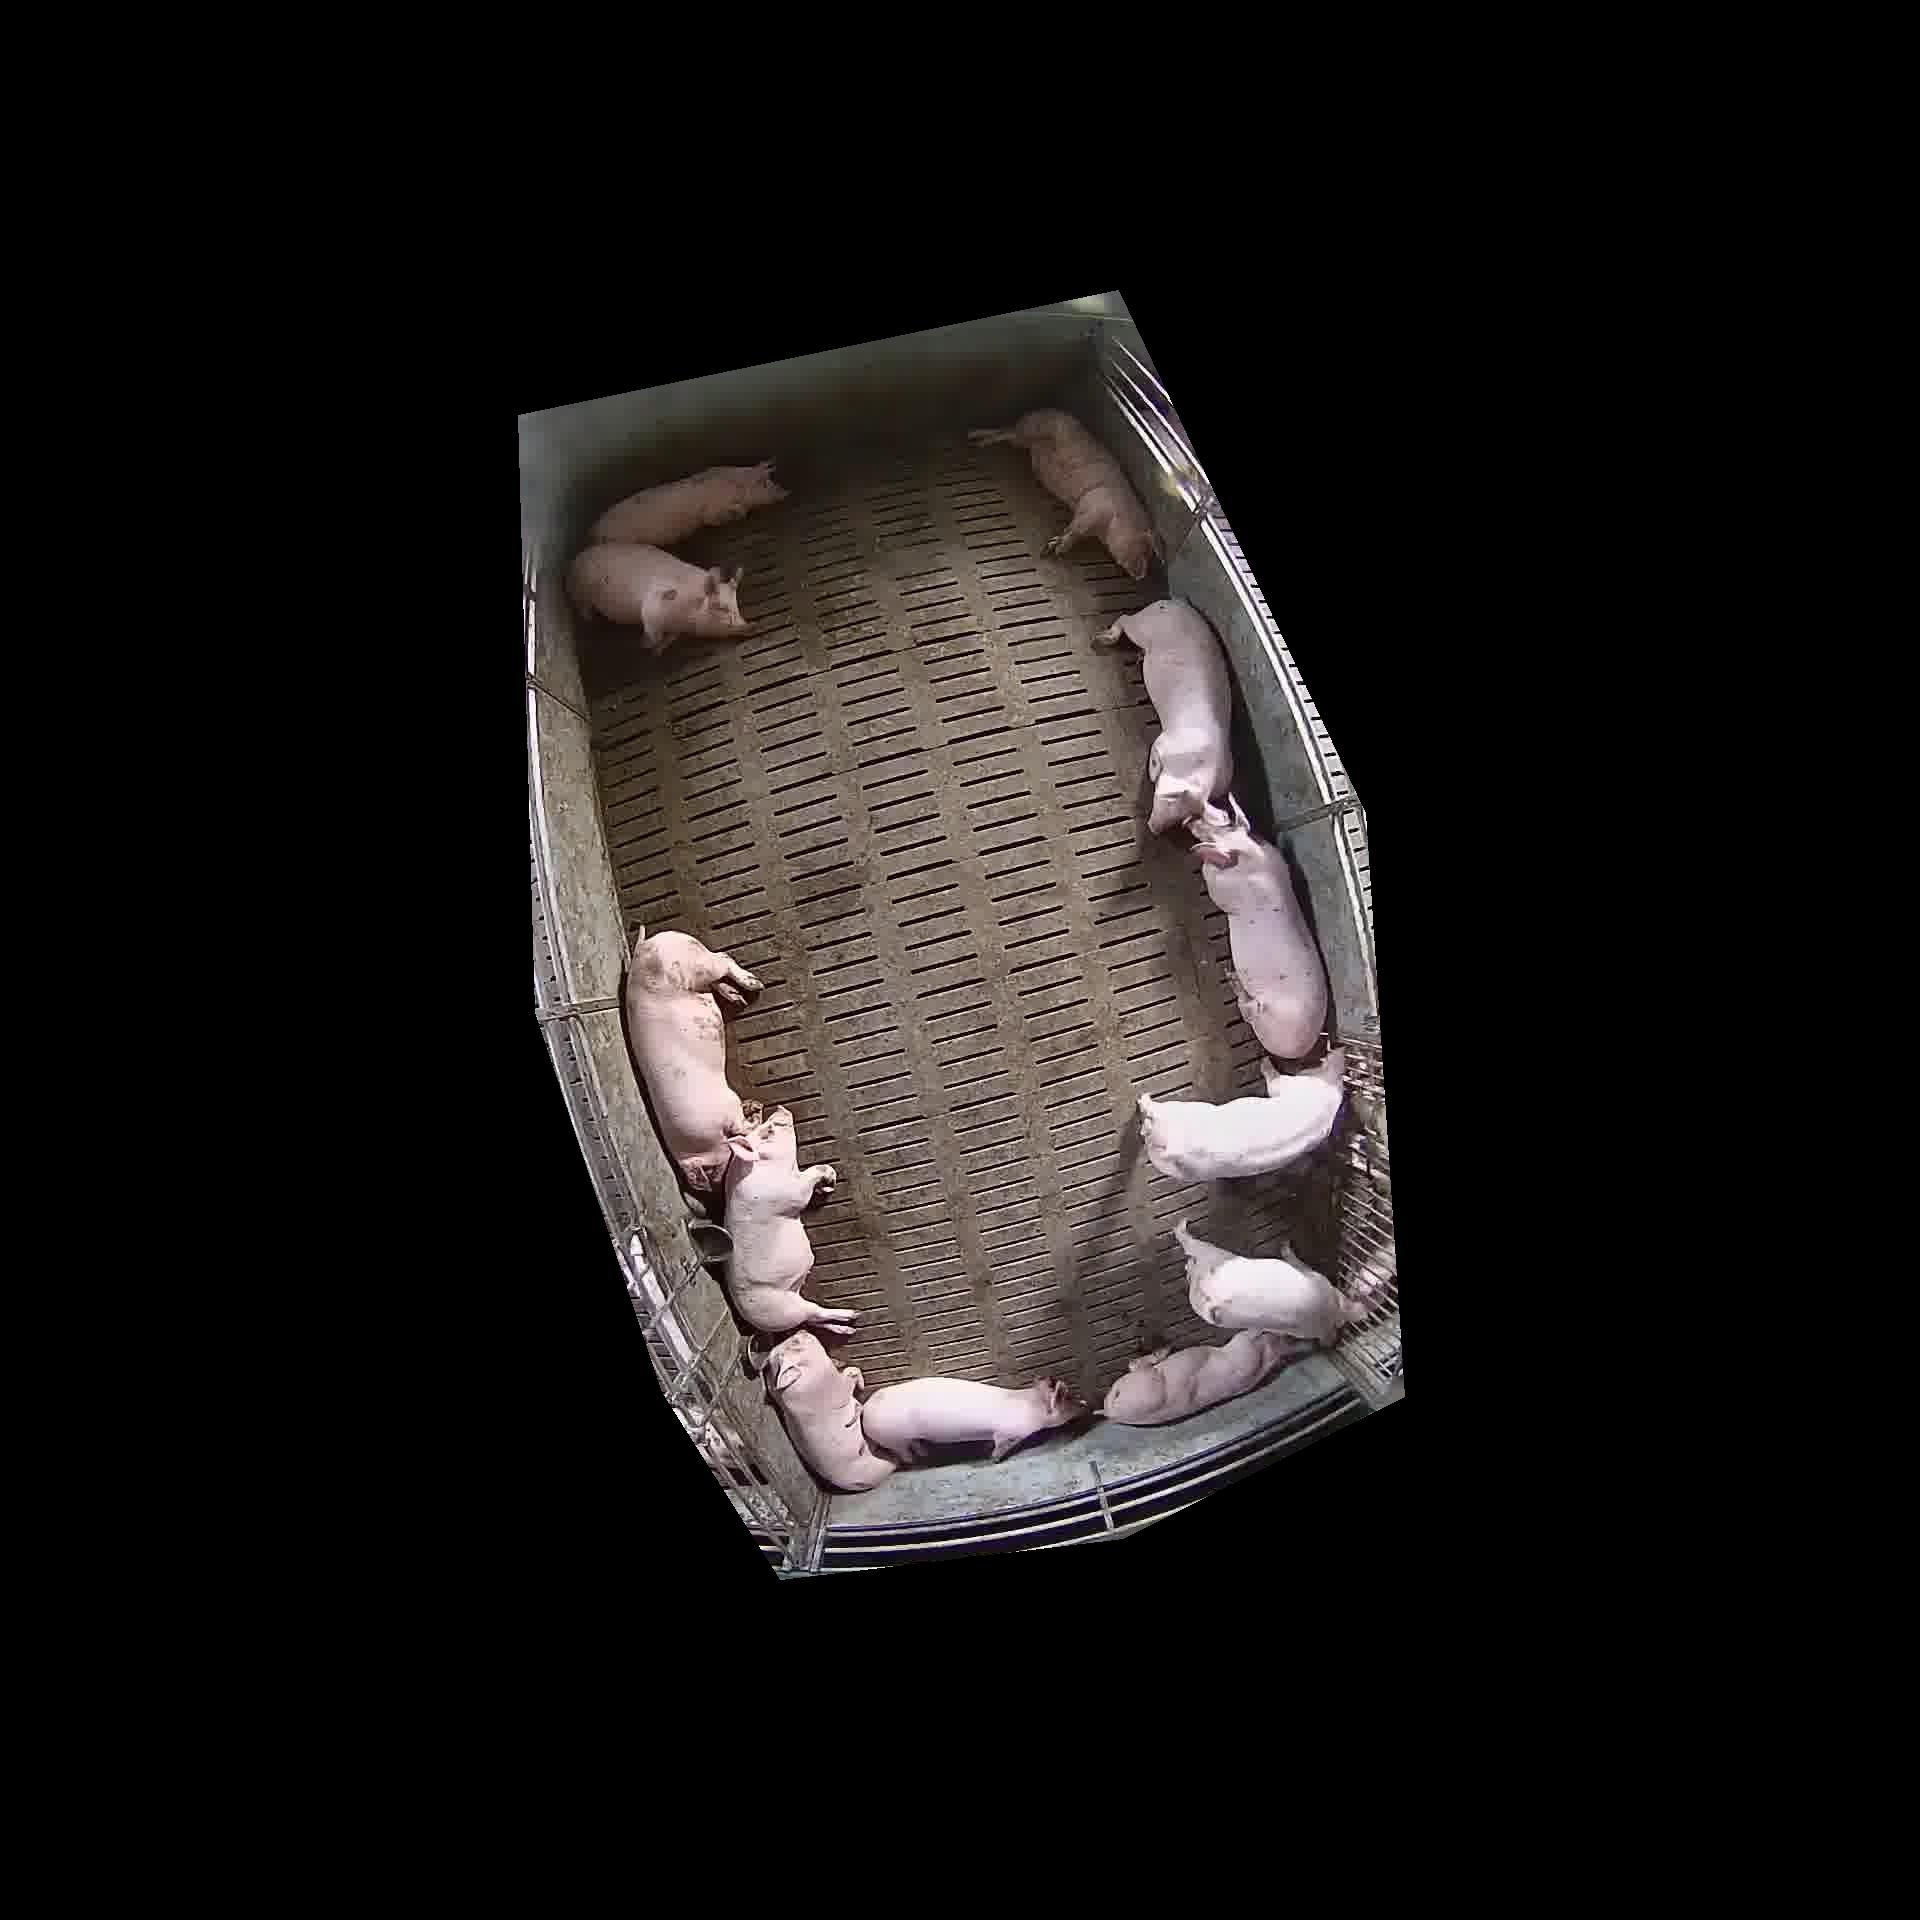pig: (624, 927, 760, 1190), (1189, 802, 1327, 1058), (1097, 600, 1233, 833), (969, 410, 1153, 578), (724, 1108, 856, 1333), (1139, 1051, 1343, 1182), (1173, 1224, 1349, 1345), (765, 1331, 895, 1491), (568, 542, 749, 652), (1101, 1329, 1308, 1424), (862, 1377, 1087, 1463), (591, 461, 784, 547)
